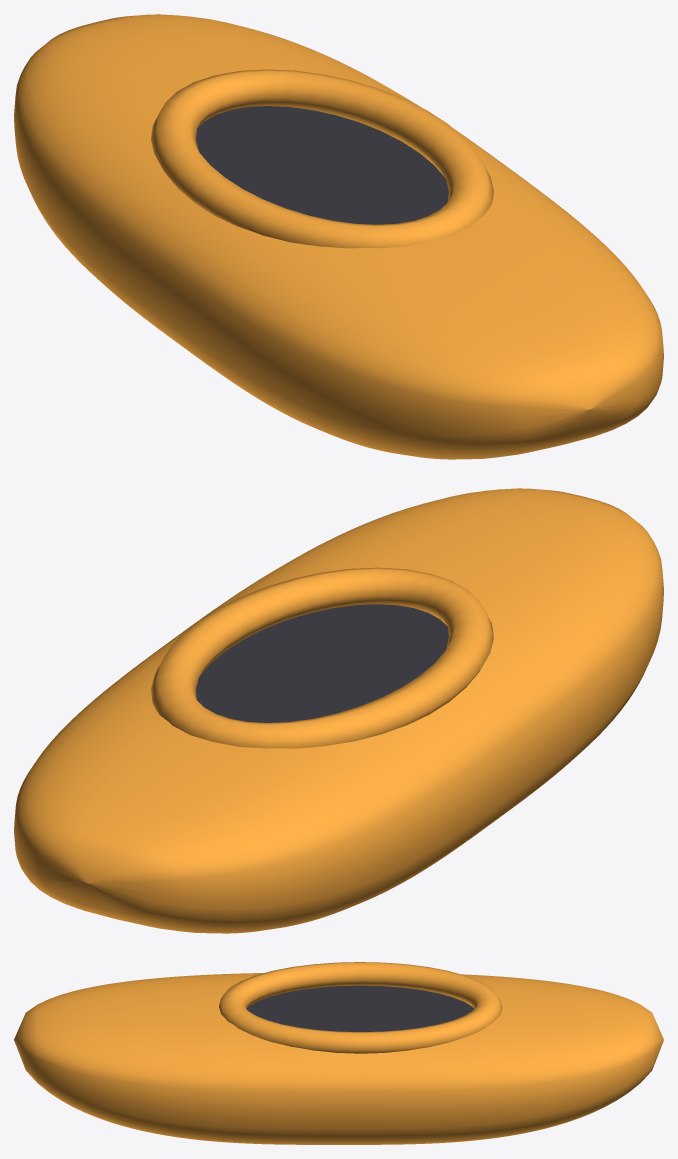
The model's file is Kayak_Round.glb.
The picture shows the model from 3 angles, top to bottom: view 1: azimuth 30°, elevation 25°; view 2: azimuth 150°, elevation 25°; view 3: azimuth 270°, elevation 25°; orthographic projection. The views are drawn at different scales.
Parts seen in each view (by area): view 1: Kayak_Round, Kayak_Round_Cockpit; view 2: Kayak_Round, Kayak_Round_Cockpit; view 3: Kayak_Round, Kayak_Round_Cockpit.
Boxes of the visible parts, box(x1,y1,x2,y2) form: Kayak_Round: box(14, 14, 663, 459); Kayak_Round_Cockpit: box(196, 106, 448, 224); Kayak_Round: box(14, 488, 663, 933); Kayak_Round_Cockpit: box(196, 604, 448, 722); Kayak_Round: box(14, 962, 663, 1144); Kayak_Round_Cockpit: box(246, 985, 474, 1031).
Bounding box in the file's own units: 3.1 × 1.49 × 7.6.
